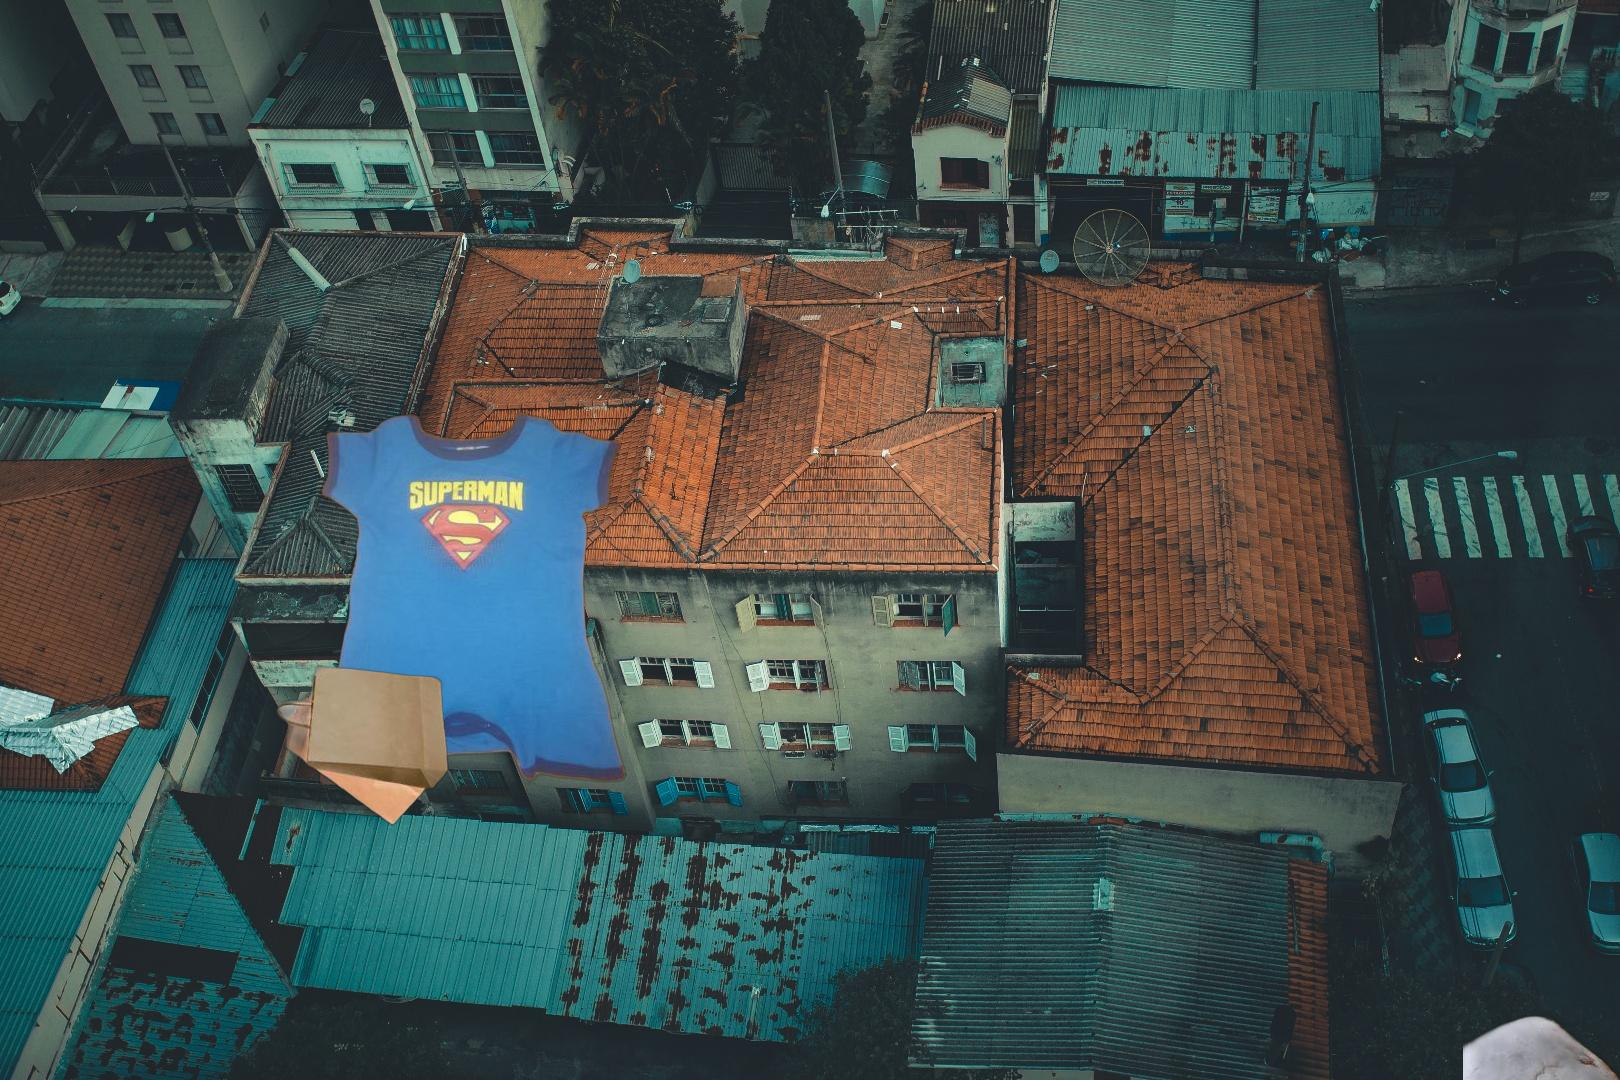biological: (1463, 973, 1620, 1080)
clothes: (316, 407, 629, 796)
paper-bag: (275, 640, 452, 826)
